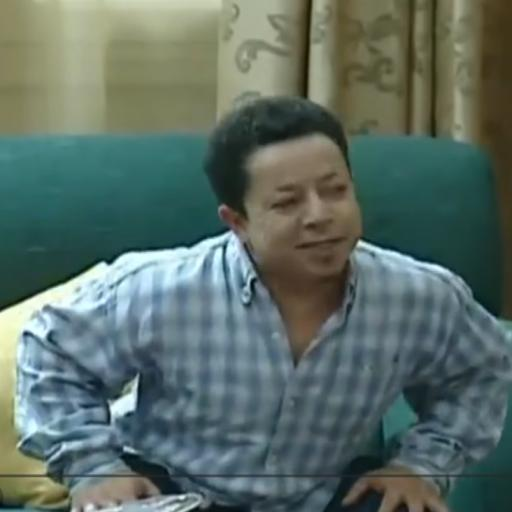fouchika: (205, 96, 361, 285)
